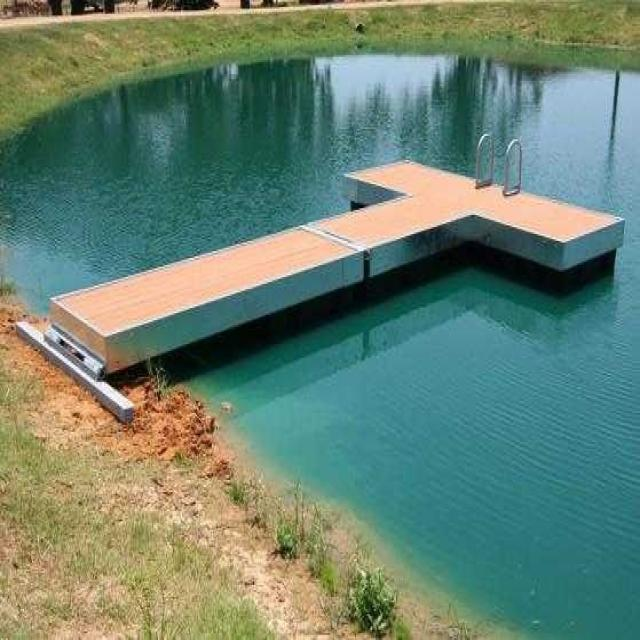Ponds: (4, 46, 639, 640)
